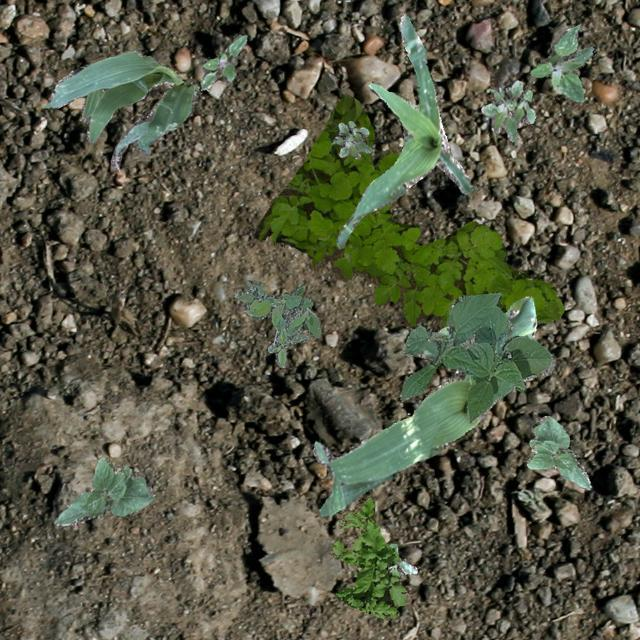crop: (312, 296, 536, 518), (336, 12, 472, 248), (398, 290, 552, 422), (42, 50, 196, 170), (54, 456, 154, 524), (525, 416, 589, 488)
weed: (253, 95, 562, 328), (330, 497, 410, 618), (233, 278, 320, 368), (530, 23, 592, 100), (480, 78, 534, 140), (200, 34, 246, 90), (331, 120, 372, 158), (386, 542, 416, 576)
